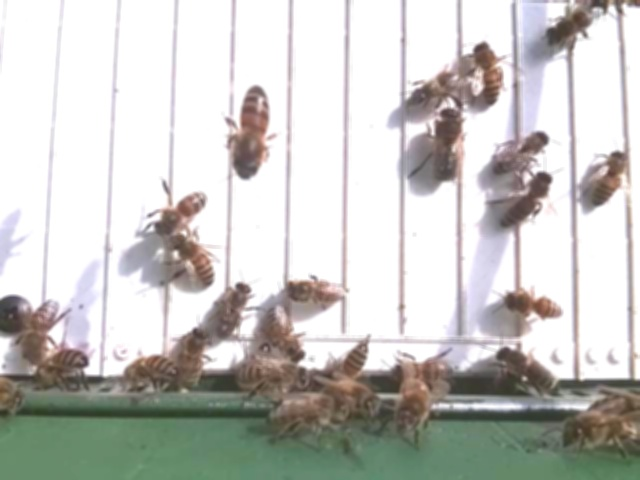Drone: (428, 105, 468, 183)
Worker: (229, 81, 273, 181), (498, 167, 557, 232), (495, 344, 563, 392), (489, 128, 551, 176), (151, 188, 211, 236), (263, 300, 308, 364), (22, 295, 62, 365), (587, 147, 631, 209), (469, 36, 505, 110), (170, 234, 218, 287), (215, 277, 253, 340), (34, 344, 90, 385), (503, 286, 564, 323), (283, 274, 352, 306), (178, 323, 210, 391), (122, 351, 183, 386), (394, 356, 455, 384), (337, 339, 371, 382)
